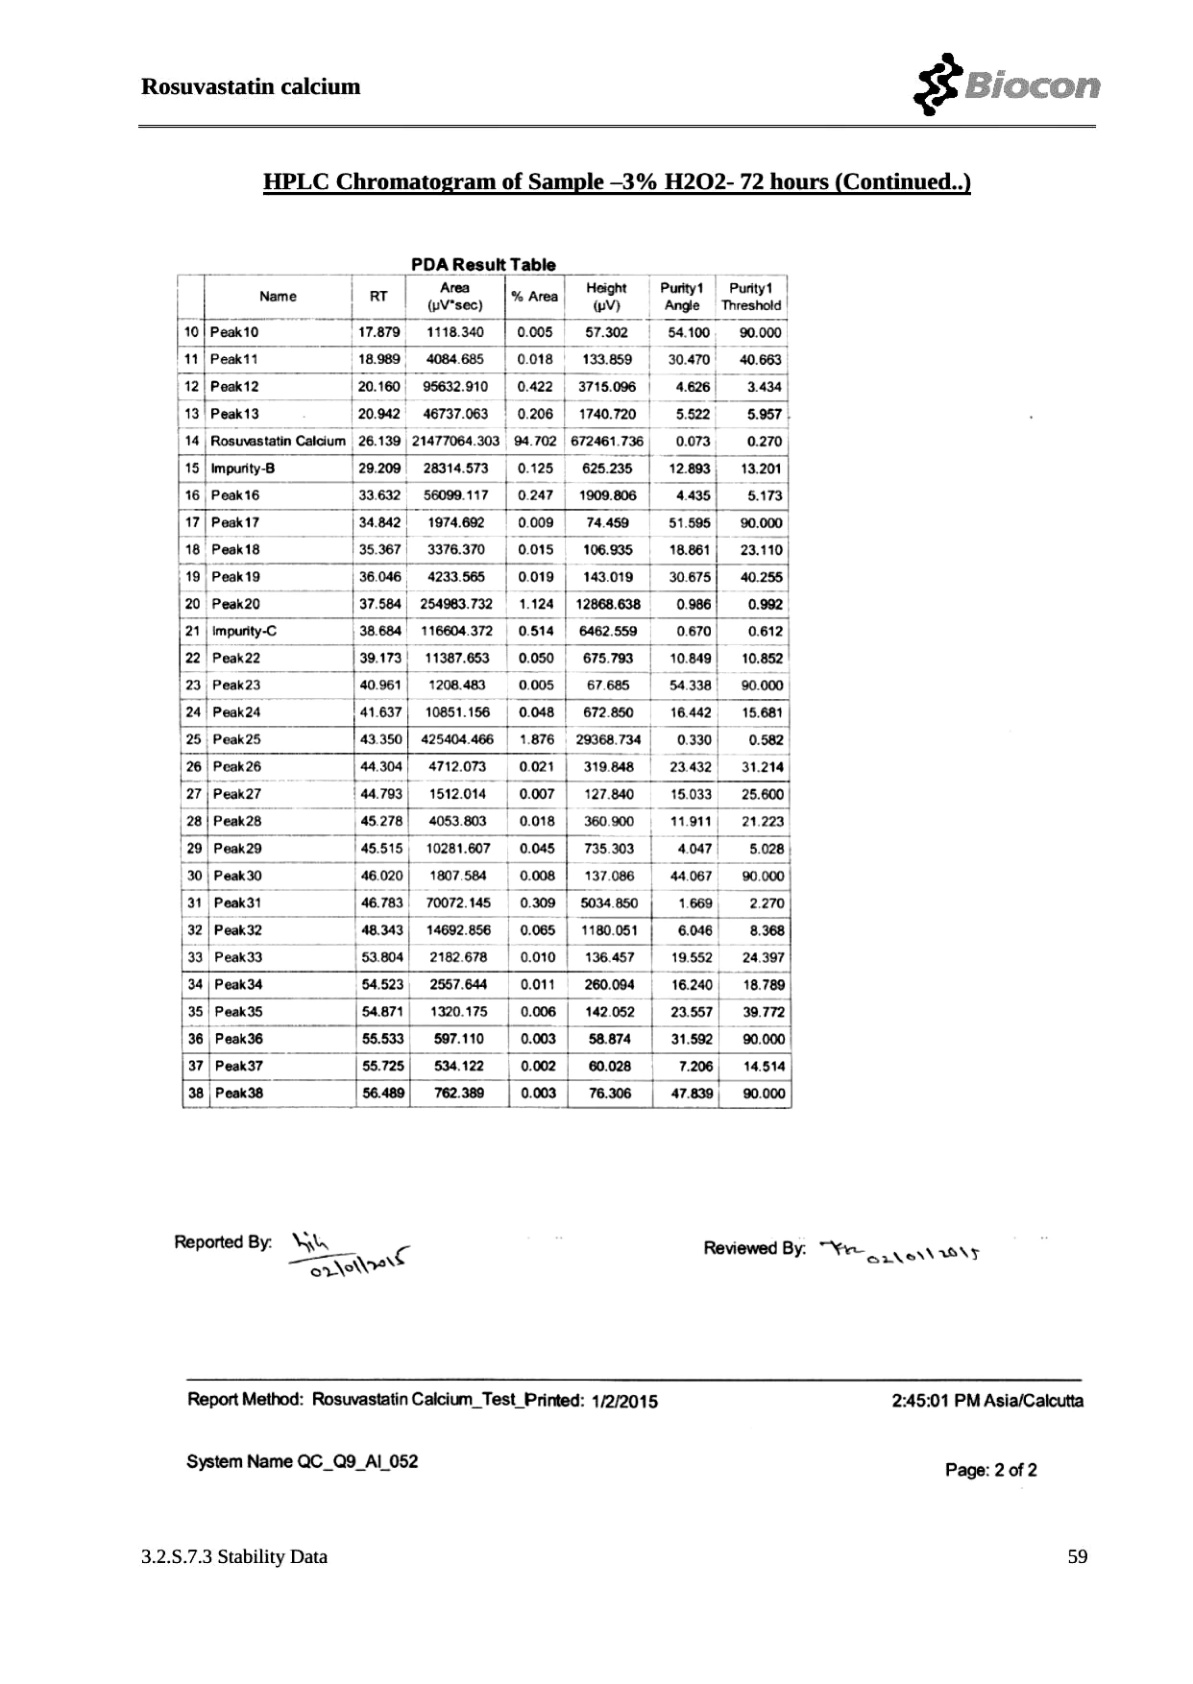full_lined: (176, 272, 793, 1111)
